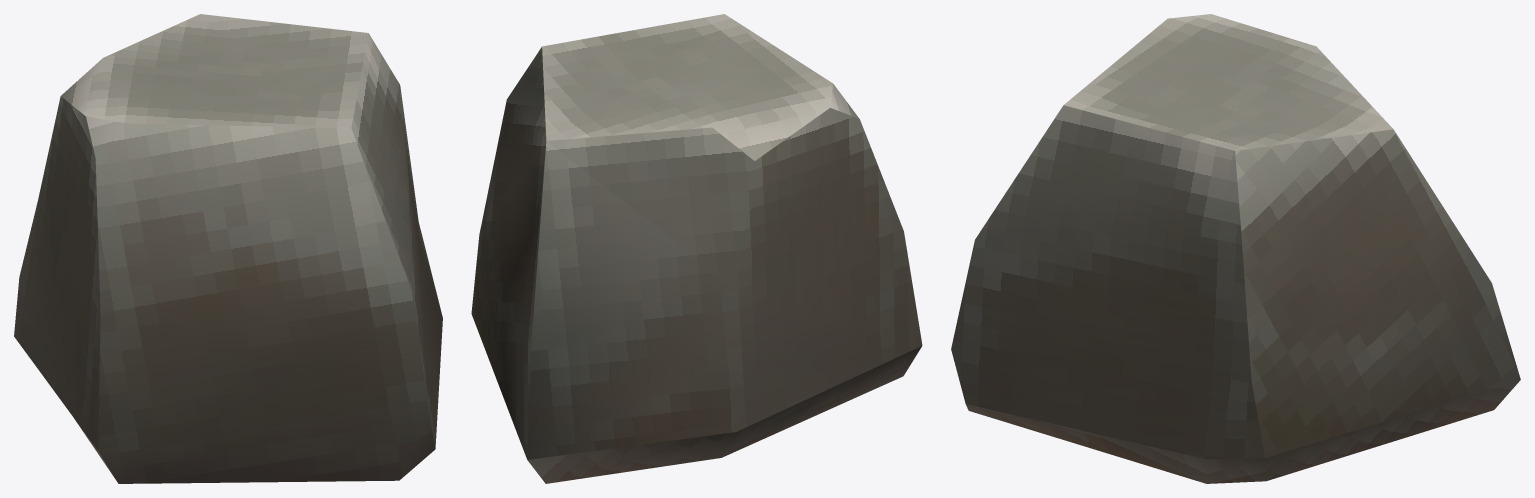
The model's file is pedra_06.glb.
The picture shows the model from 3 angles, left to right: view 1: azimuth 30°, elevation 25°; view 2: azimuth 150°, elevation 25°; view 3: azimuth 270°, elevation 25°; orthographic projection. The views are drawn at different scales.
Visible parts, largest first — view 1: SM_Rocks_06; view 2: SM_Rocks_06; view 3: SM_Rocks_06.
Part boxes in pixels (box(x1,y1,x2,y2)): SM_Rocks_06: box(14, 14, 442, 483); SM_Rocks_06: box(471, 14, 922, 483); SM_Rocks_06: box(951, 14, 1520, 483).
Bounding box in the file's own units: 0.2832 × 0.241 × 0.3628.
Materials: 1 (1 with a texture image).
